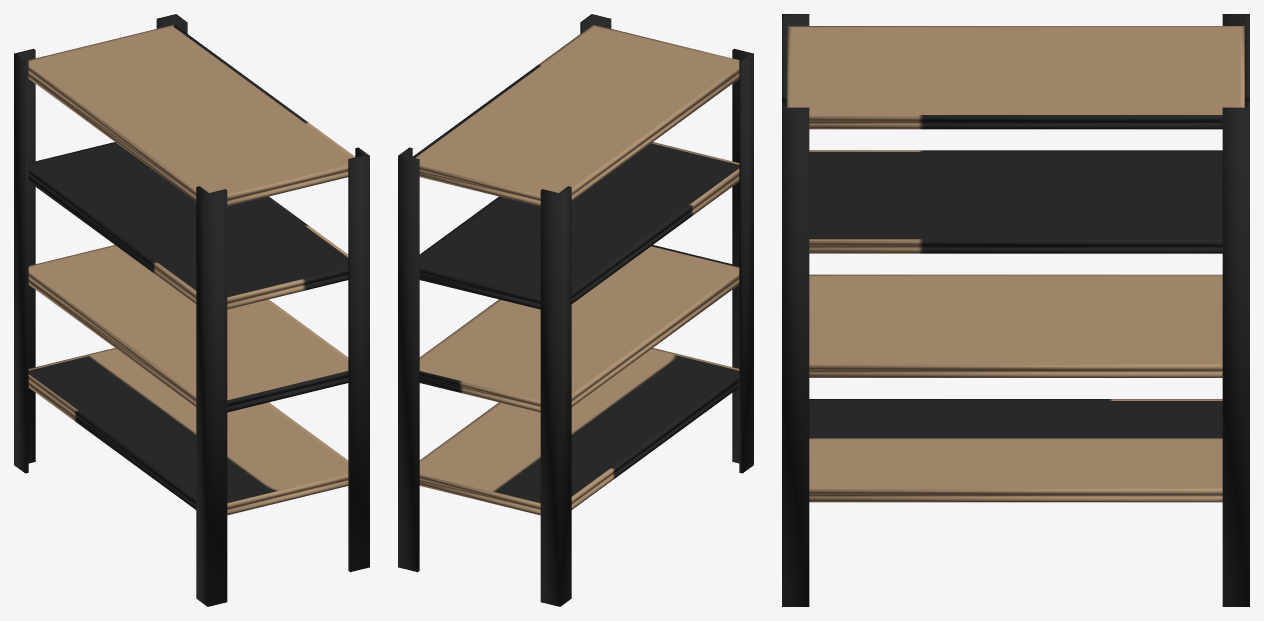
The model's file is SM_ItemShelf.fbx.
3 renders of one model, left to right at view 1: azimuth 30°, elevation 25°; view 2: azimuth 150°, elevation 25°; view 3: azimuth 270°, elevation 25°, orthographic. The views are drawn at different scales.
Parts seen in each view (by area): view 1: ItemShelf; view 2: ItemShelf; view 3: ItemShelf.
Part boxes in pixels (box(x1,y1,x2,y2)): ItemShelf: box(14, 14, 369, 606); ItemShelf: box(398, 14, 753, 606); ItemShelf: box(782, 14, 1249, 606).
Size of the model in its own units: 98.88 by 240 by 205.
